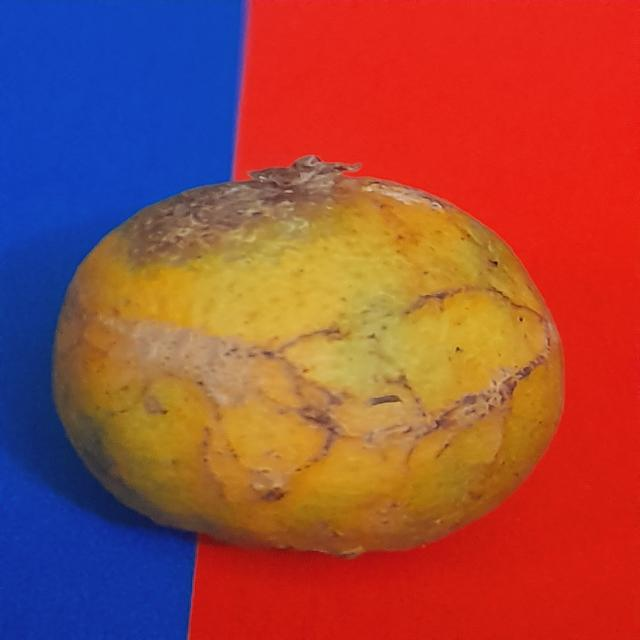thrips: (51, 176, 572, 562)
